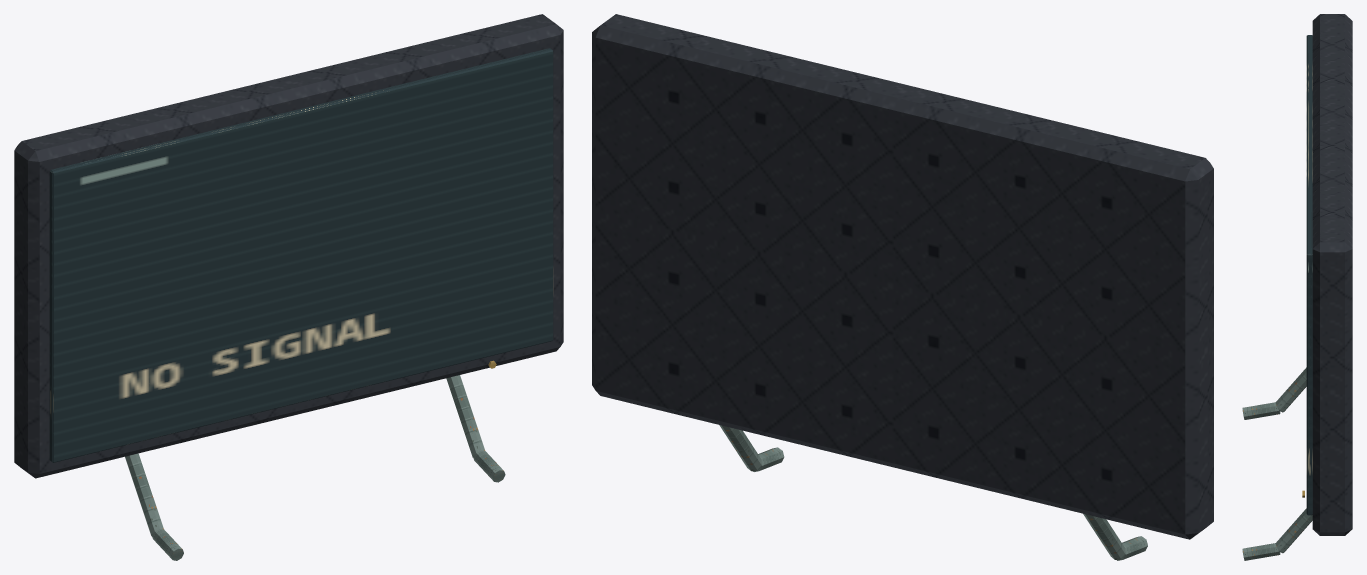
Rendered from MD_27_Television.fbx.
3 views of the same model, side by side, from view 1: azimuth 30°, elevation 25°; view 2: azimuth 150°, elevation 25°; view 3: azimuth 270°, elevation 25° (orthographic). The views are drawn at different scales.
Visible parts, largest first — view 1: MD_27_Television_separate_display, MD_27_Television_screen_housing, MD_27_Television_screen_foot_0, MD_27_Television_screen_foot_0.001; view 2: MD_27_Television_screen_housing, MD_27_Television_screen_foot_0, MD_27_Television_screen_foot_0.001; view 3: MD_27_Television_screen_housing, MD_27_Television_separate_display, MD_27_Television_screen_foot_0.001, MD_27_Television_screen_foot_0, MD_27_Television_screen_foot_1, MD_27_Television_screen_foot_1.001.
Boxes of the visible parts, box(x1,y1,x2,y2) form: MD_27_Television_separate_display: box(49, 48, 553, 462); MD_27_Television_screen_housing: box(14, 14, 563, 478); MD_27_Television_screen_foot_0: box(125, 453, 163, 536); MD_27_Television_screen_foot_0.001: box(446, 375, 485, 457); MD_27_Television_screen_housing: box(592, 14, 1213, 539); MD_27_Television_screen_foot_0: box(1083, 513, 1125, 559); MD_27_Television_screen_foot_0.001: box(719, 425, 761, 471); MD_27_Television_screen_housing: box(1312, 14, 1352, 535); MD_27_Television_separate_display: box(1306, 35, 1312, 515); MD_27_Television_screen_foot_0.001: box(1275, 508, 1312, 553); MD_27_Television_screen_foot_0: box(1275, 367, 1306, 412); MD_27_Television_screen_foot_1: box(1242, 402, 1280, 419); MD_27_Television_screen_foot_1.001: box(1242, 543, 1280, 560).
Size of the model in its own units: 1.25 by 0.8997 by 0.2478.
4 materials, 4 textured.
